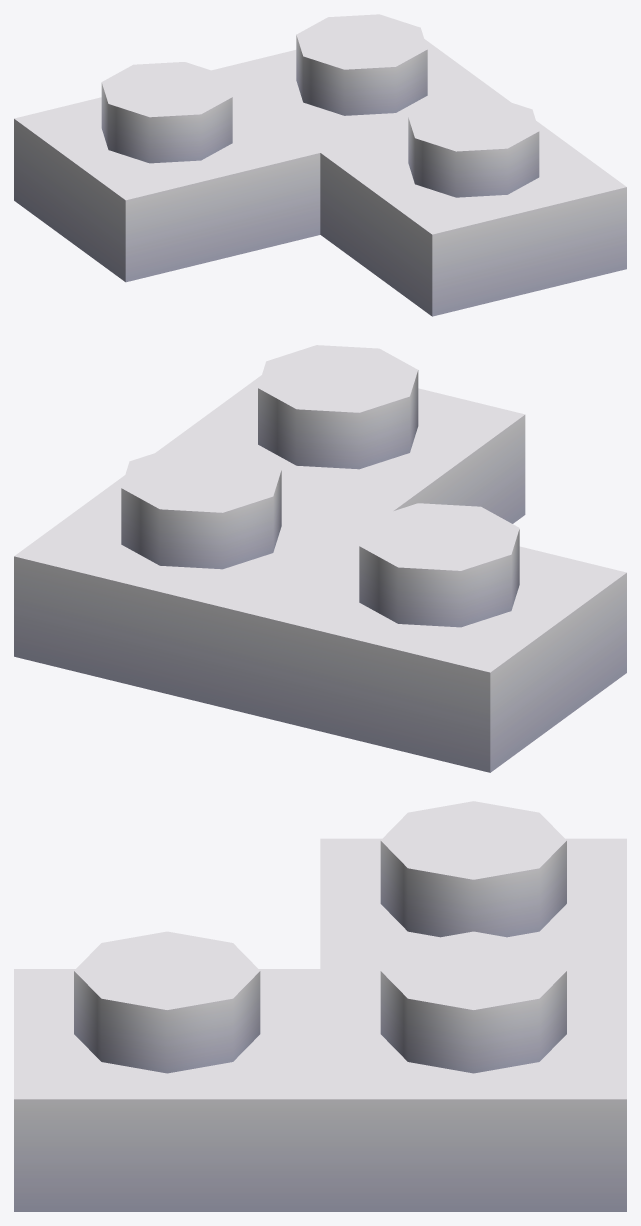
The model's file is kenney-brick-round-lq-plate-corner.glb.
3 views of the same model, one above another, from view 1: azimuth 30°, elevation 25°; view 2: azimuth 150°, elevation 25°; view 3: azimuth 270°, elevation 25° (orthographic). The views are drawn at different scales.
Visible parts, largest first — view 1: round-lq-plate-corner; view 2: round-lq-plate-corner; view 3: round-lq-plate-corner.
Boxes of the visible parts, left/top/right/bottom form: round-lq-plate-corner: left=14, top=14, right=626, bottom=316; round-lq-plate-corner: left=14, top=345, right=626, bottom=772; round-lq-plate-corner: left=14, top=801, right=626, bottom=1211.
Size of the model in its own units: 0.159 by 0.05 by 0.158.
Materials: 1 (1 with a texture image).
